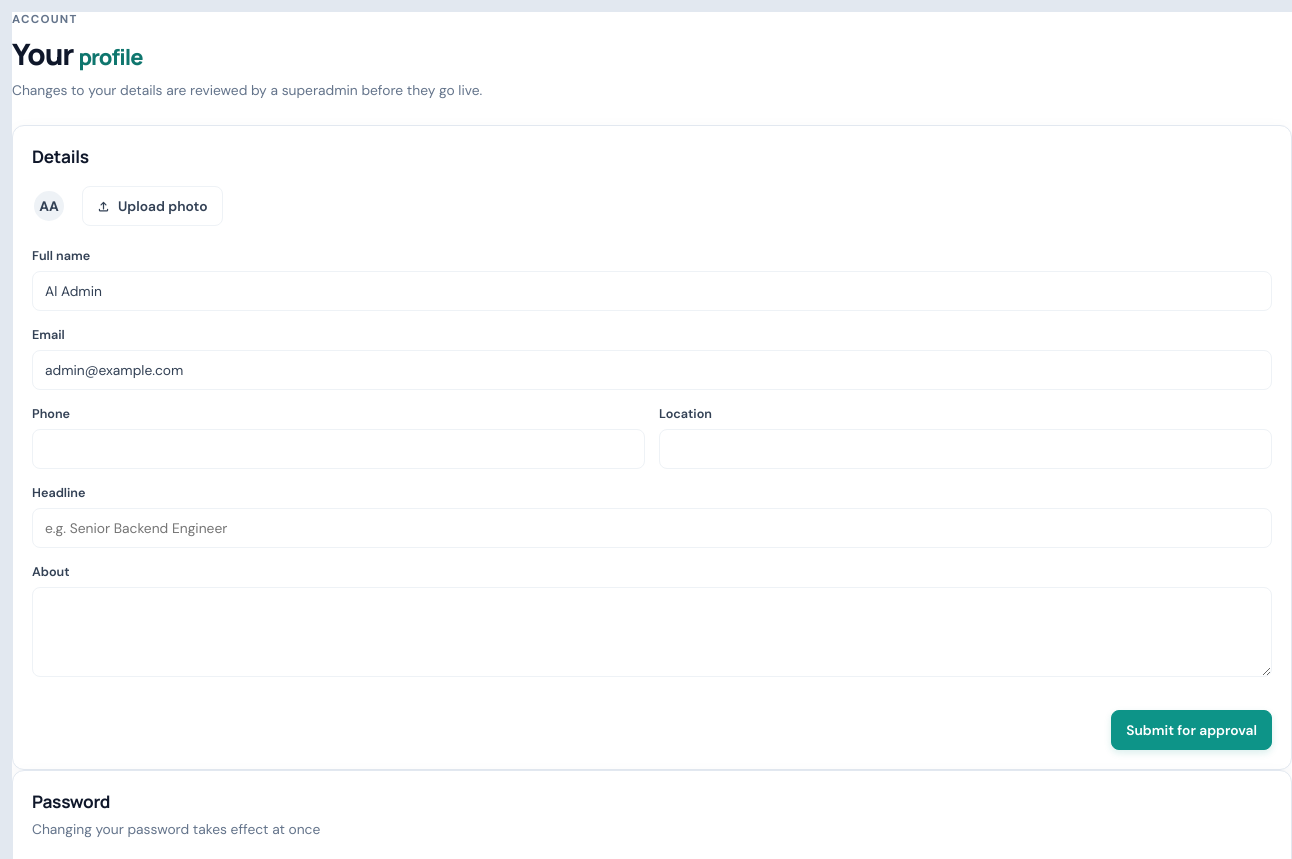
Scenario: ProfilePage › frames an admin's save as needing approval
This screenshot has width=1292, height=859.
Note: The button says so, and the result confirms it was queued.
What coordinates should you click on to do the following:
click the button "Submit for approval"
I would click on:
 (1192, 730)
Its box is [1111, 710, 1272, 750].
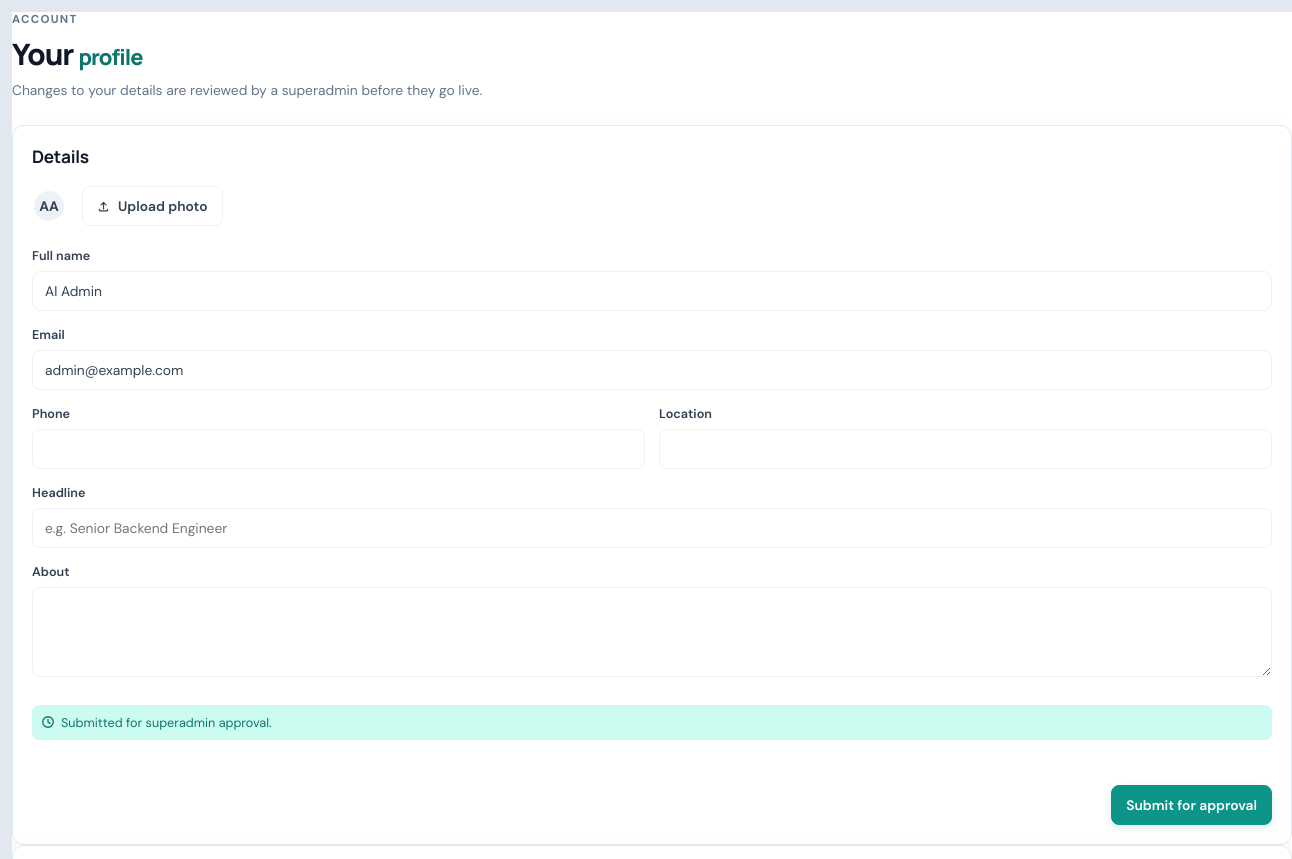
Result: the text "Submitted for superadmin approval." is shown at [32, 705, 1272, 740]
